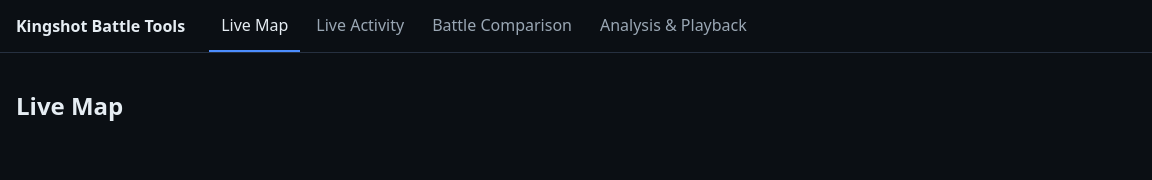
Test case: app shell › navigates to Live Activity
Expected: the heading "Live Map" is shown, x1=16 y1=89 x2=123 y2=122
Click the link "Live Activity" at (360, 25), box x1=316 y1=14 x2=404 y2=36
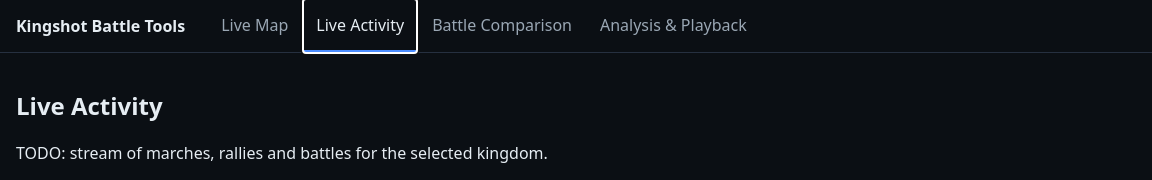
Now the heading "Live Activity" is shown, box x1=16 y1=89 x2=163 y2=122
